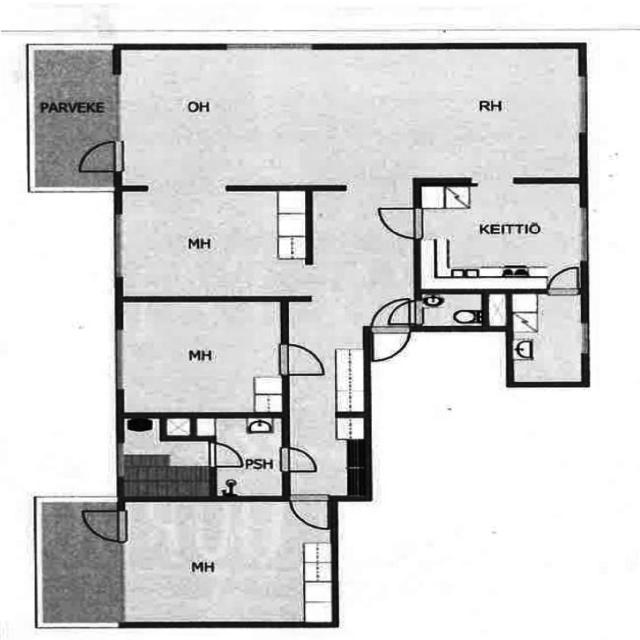door: (359, 294, 409, 364), (369, 199, 434, 246), (273, 333, 329, 385), (66, 134, 134, 175), (284, 490, 336, 535), (79, 506, 135, 544), (547, 258, 586, 298), (384, 300, 437, 328), (202, 435, 243, 470), (274, 446, 320, 475)
window: (204, 33, 324, 57), (562, 68, 601, 140), (104, 323, 139, 401), (107, 208, 131, 286), (566, 315, 604, 362), (573, 200, 601, 263), (106, 433, 135, 478)
zone: (111, 45, 580, 185), (111, 498, 336, 623), (114, 184, 307, 296), (115, 299, 294, 417), (419, 175, 585, 288), (108, 414, 225, 493), (504, 291, 590, 386), (206, 415, 282, 503), (409, 294, 507, 334)
